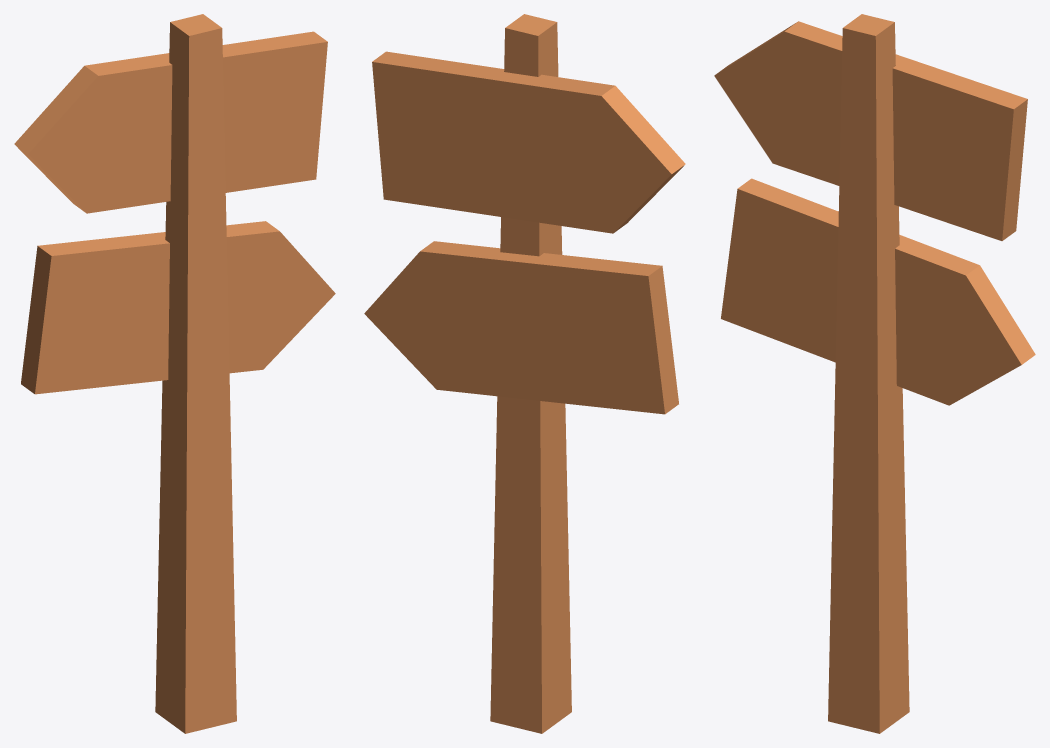
Rendered from signpost.fbx.
The picture shows the model from 3 angles, left to right: view 1: azimuth 30°, elevation 25°; view 2: azimuth 150°, elevation 25°; view 3: azimuth 330°, elevation 25°; orthographic projection.
Parts seen in each view (by area): view 1: signpost; view 2: signpost; view 3: signpost.
Boxes of the visible parts, <box> form: signpost: <box>14,14,335,733</box>; signpost: <box>364,14,685,733</box>; signpost: <box>714,14,1035,733</box>.
Size of the model in its own units: 8.56 by 18.4 by 1.72.
